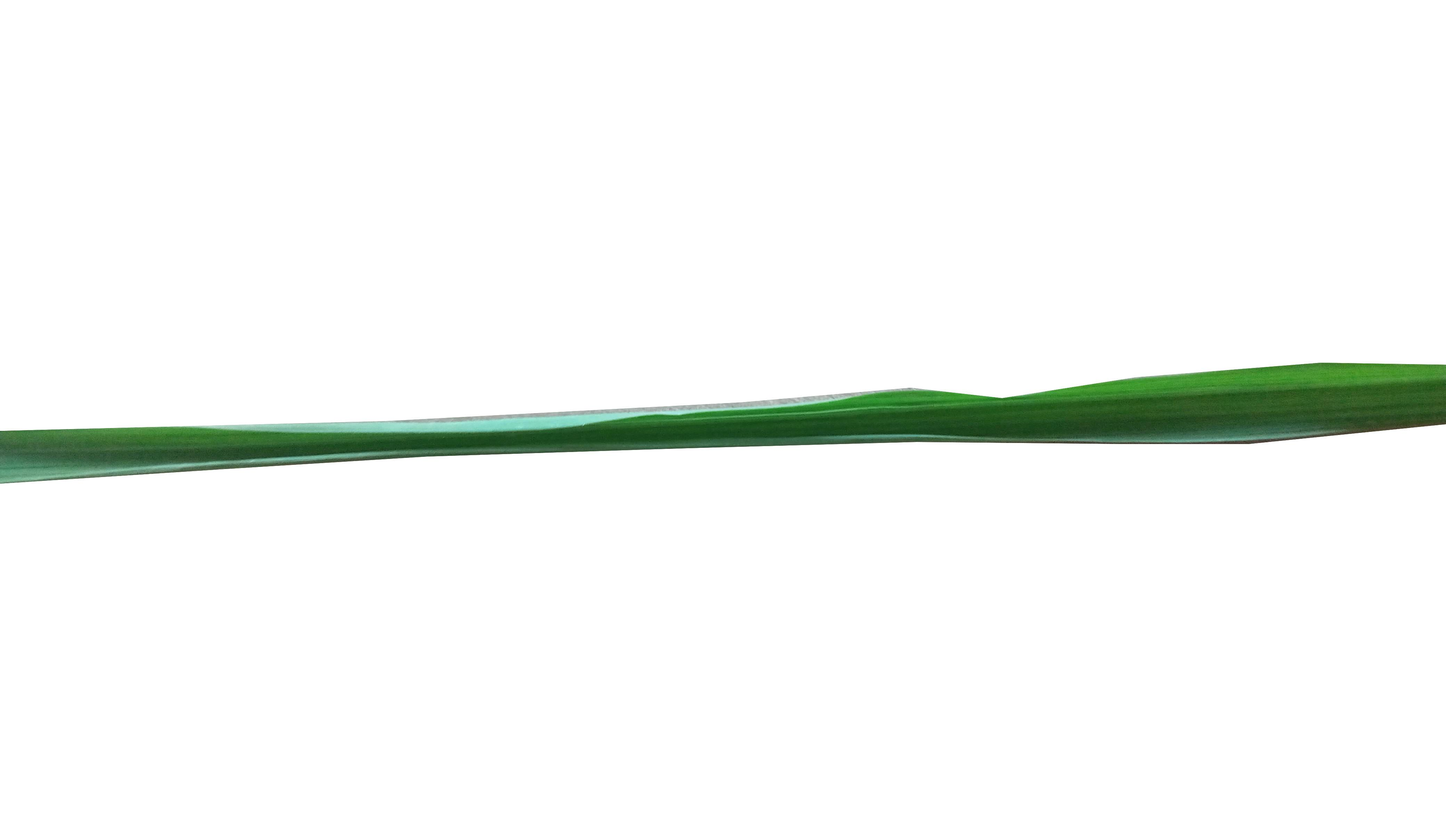Healthy: (0, 364, 1446, 486)
